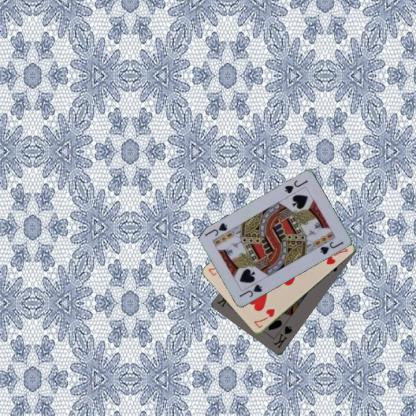7h: (252, 306, 276, 330)
Js: (282, 178, 309, 196), (237, 282, 263, 299)
Ks: (271, 324, 294, 350)
